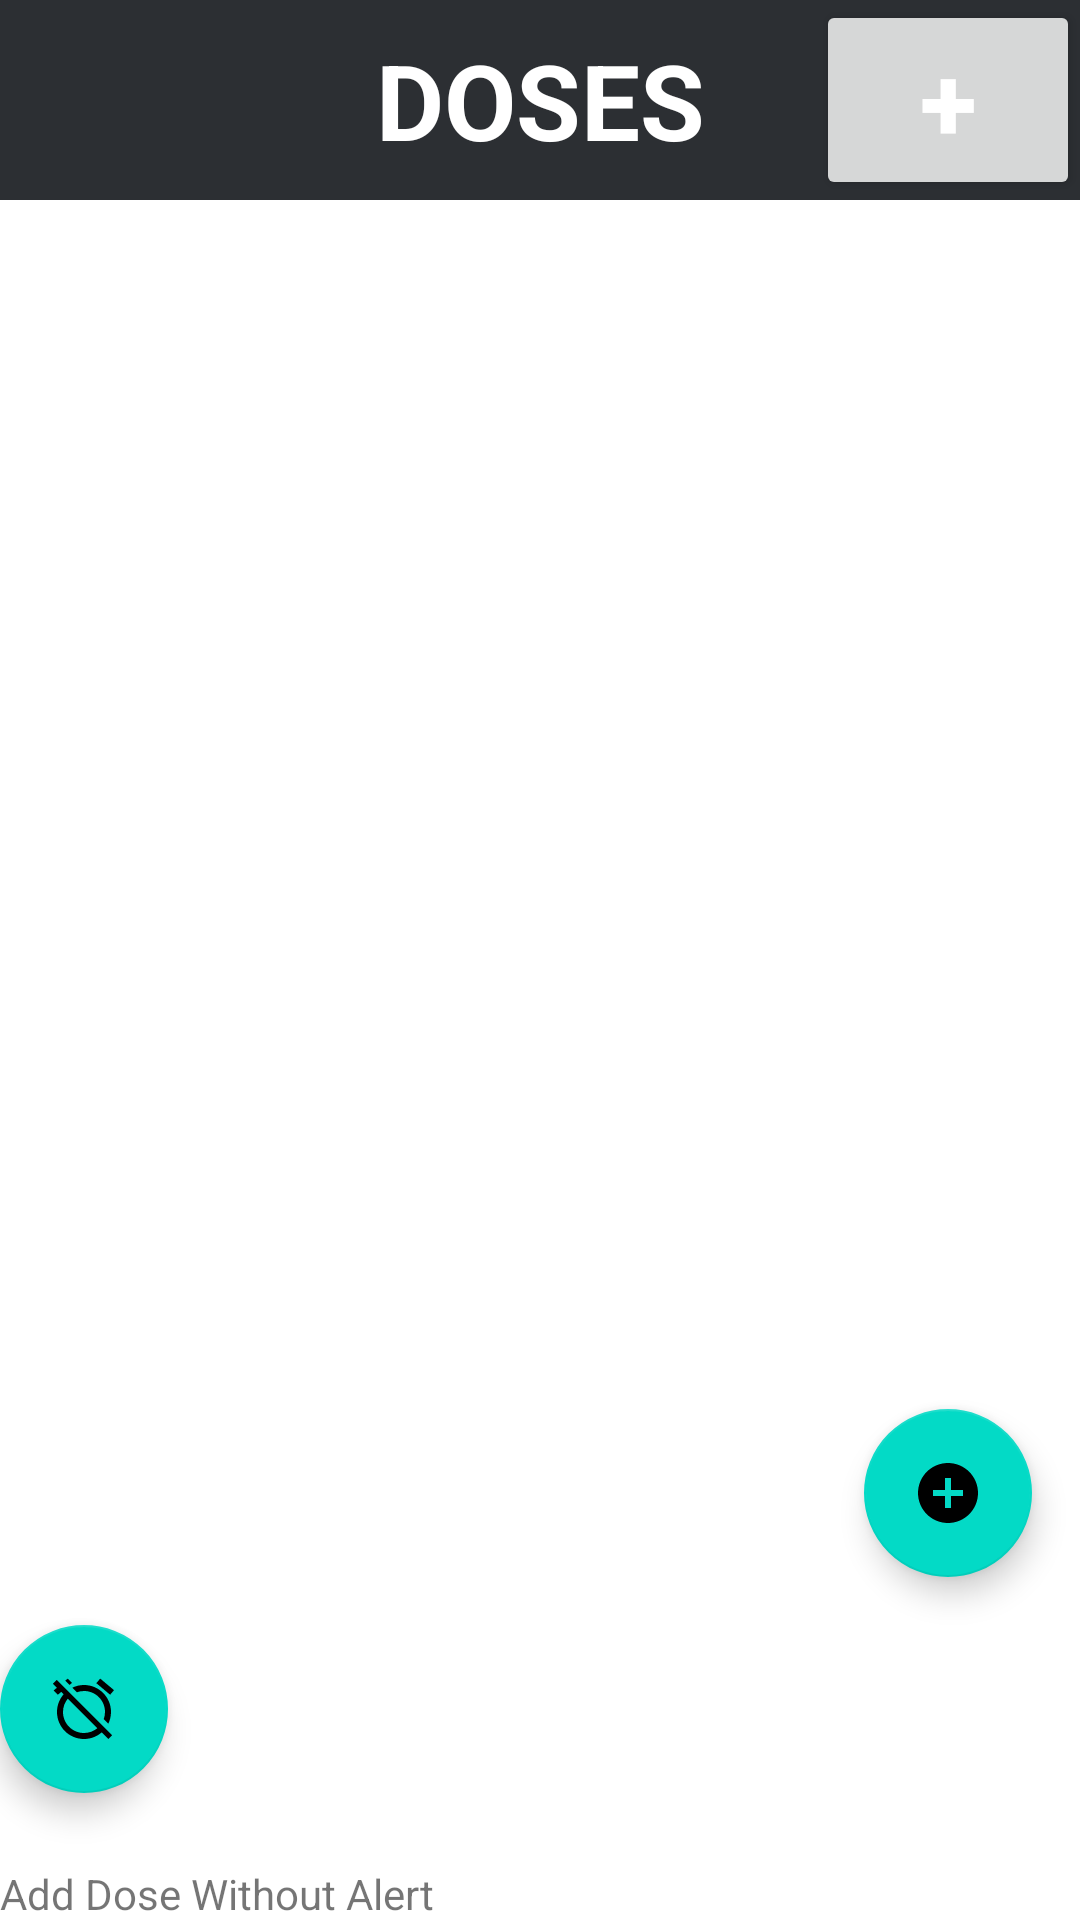

Locate icon controls on the screen. Image size 1080x1920, boxes as (x1, y1, x2, y2).
add circle: (864, 1409, 1032, 1577)
alarm off: (0, 1625, 168, 1793)
